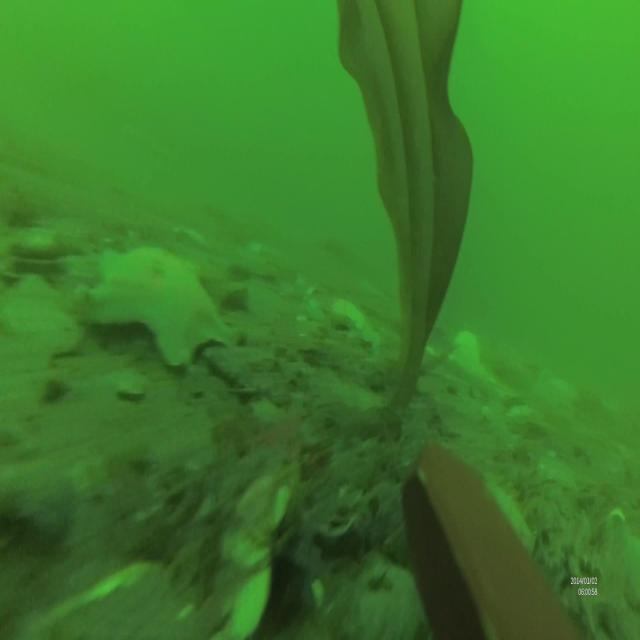starfish: (86, 242, 242, 371)
